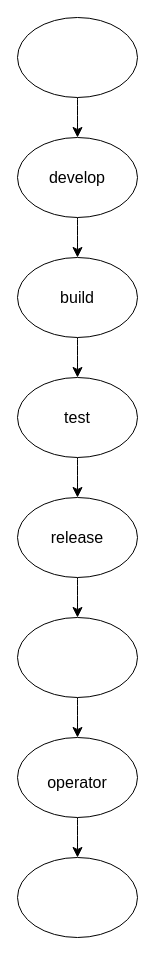
Some shapes in this 155 by 955 pixel diagram are drawn without their labels. Each missing label, with the centre of its shape:
"deploy" goes at point (77, 657).
"moniter" goes at point (77, 897).
"plan" goes at point (77, 57).
